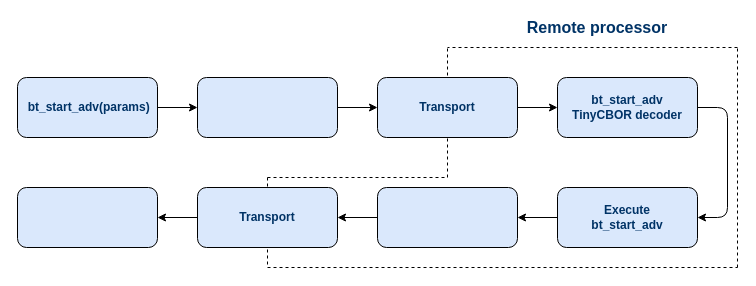
This 756x286 diagram has some shape labels left out. Each missing label, with the centre of its shape:
bt_start_adv response serializer: (x=447, y=217)
bt_start_adv TinyCBOR serializer: (x=267, y=107)
Response data parse: (x=87, y=217)
